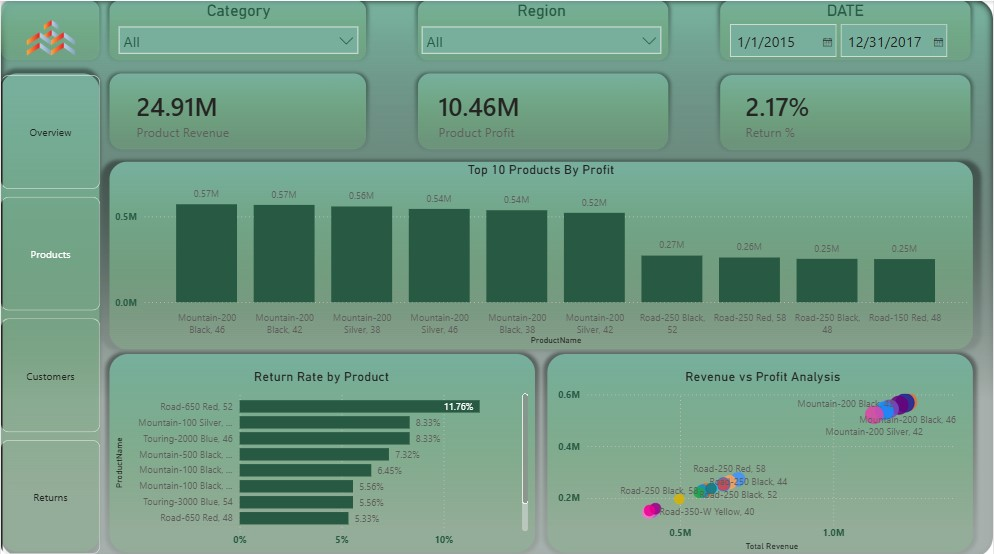

The page's visual inventory and layout, read from the dashboard file:
{"tool":"powerbi","page":{"name":"Products","canvas":[1280,720],"ordinal":1},"visuals":[{"type":"cardVisual","fields":{"Data":["Measure.Total Revenue"]},"box":[141.7,95,330,101.7],"z":1000},{"type":"cardVisual","fields":{"Data":["Measure.Total Profit"]},"box":[531.7,96.7,330,100],"z":2000},{"type":"cardVisual","fields":{"Data":["Measure.Return Rate"]},"box":[928.3,96.7,323.3,100],"z":3000},{"type":"slicer","title":"Category","fields":{"Values":["AdventureWorks_Product_Categori.CategoryName"]},"box":[142.1,0,329.2,80.1],"z":4000},{"type":"slicer","title":"DATE","fields":{"Values":["Date.Date"]},"box":[928.3,0,323.3,80],"z":5000},{"type":"slicer","title":"Region","fields":{"Values":["AdventureWorks_Territories.Region"]},"box":[532.4,0,329.2,80.1],"z":6000},{"type":"pageNavigator","box":[0,95,128.3,618.3],"z":7000},{"type":"image","box":[0,0,128.3,95],"z":8000},{"type":"columnChart","title":"Top 10 Products By Profit","fields":{"Category":["AdventureWorks_Products.ProductName"],"Y":["Measure.Total Profit"]},"box":[141.7,208.3,1109.8,240.9],"z":9000},{"type":"barChart","title":"Return Rate by Product","fields":{"Category":["AdventureWorks_Products.ProductName"],"Y":["Measure.Return Rate"]},"box":[141.7,475,543.3,238.3],"z":10000},{"type":"scatterChart","title":"Revenue vs Profit Analysis","fields":{"X":["Measure.Total Revenue"],"Y":["Measure.Total Profit"],"Size":["Measure.Total Qty"],"Category":["AdventureWorks_Products.ProductName"]},"box":[713.4,474.6,538.8,238.8],"z":11000}]}

Visuals, with their boxes in screenshot pixels (x1, y1, x2, y2), scaled from the page's 1280x720 canvas onto the 994x554 screenshot:
cardVisual - Measure.Total Revenue: BBox(110, 73, 366, 151)
cardVisual - Measure.Total Profit: BBox(413, 74, 669, 151)
cardVisual - Measure.Return Rate: BBox(721, 74, 972, 151)
"Category" slicer: BBox(110, 0, 366, 62)
"DATE" slicer: BBox(721, 0, 972, 62)
"Region" slicer: BBox(413, 0, 669, 62)
pageNavigator: BBox(0, 73, 100, 549)
image: BBox(0, 0, 100, 73)
"Top 10 Products By Profit" columnChart: BBox(110, 160, 972, 346)
"Return Rate by Product" barChart: BBox(110, 365, 532, 549)
"Revenue vs Profit Analysis" scatterChart: BBox(554, 365, 972, 549)
